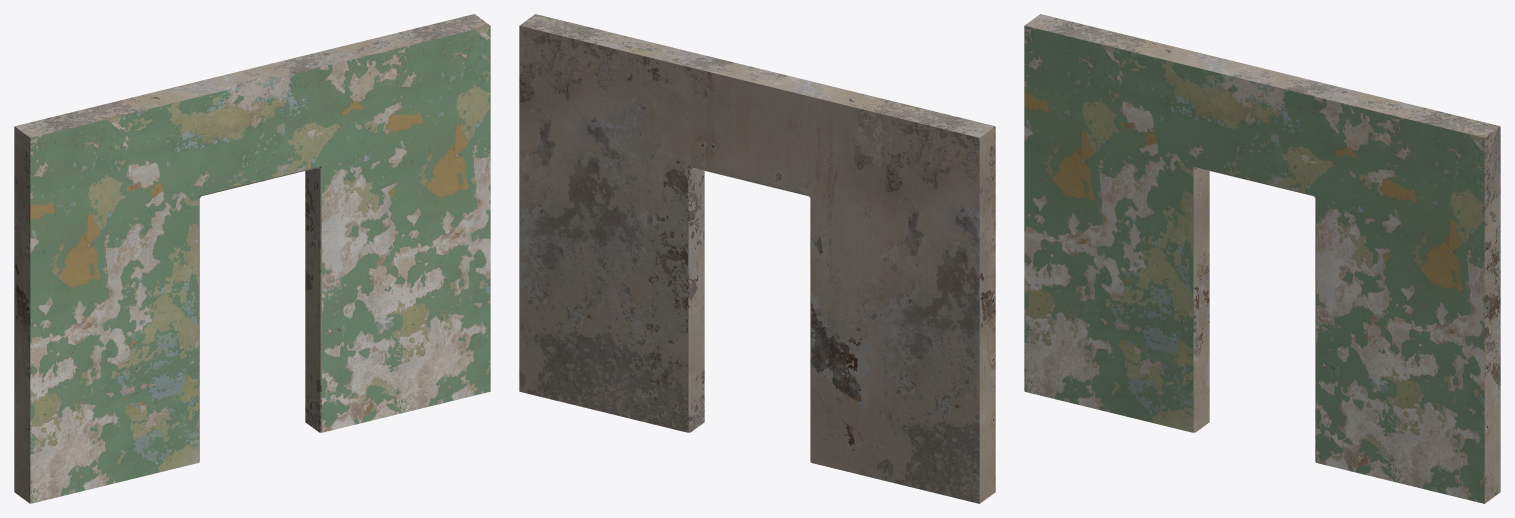
File: SM_Pared_Puerta_5x5.fbx
The picture shows the model from 3 angles, left to right: view 1: azimuth 30°, elevation 25°; view 2: azimuth 150°, elevation 25°; view 3: azimuth 330°, elevation 25°; orthographic projection.
Visible parts, largest first — view 1: SM_Pared_Puerta_5x5; view 2: SM_Pared_Puerta_5x5; view 3: SM_Pared_Puerta_5x5.
Part boxes in pixels (<box>): SM_Pared_Puerta_5x5: <box>14,14,490,503</box>; SM_Pared_Puerta_5x5: <box>519,14,995,503</box>; SM_Pared_Puerta_5x5: <box>1024,14,1500,503</box>.
Bounding box in the file's own units: 500 × 380 × 30.
